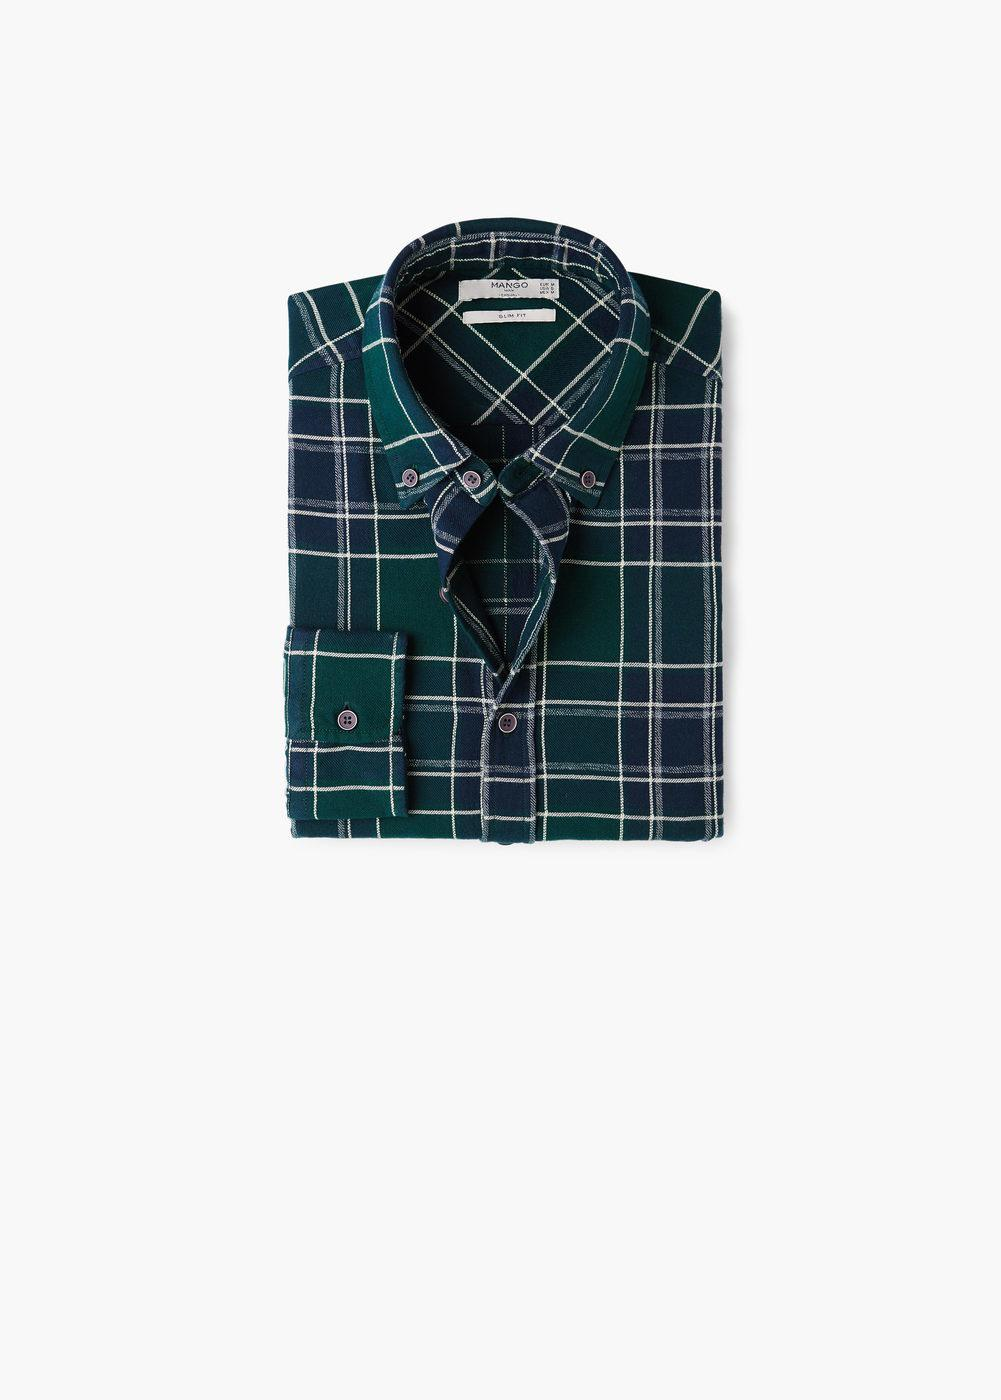teeshirt: (261, 212, 747, 880)
